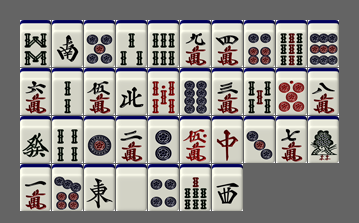0m: (180, 116, 211, 163)
0p: (276, 68, 307, 115)
0s: (148, 68, 179, 115)
1m: (20, 164, 51, 211)
1p: (84, 116, 115, 163)
1s: (308, 116, 339, 163)
1z: (84, 164, 115, 211)
2m: (116, 116, 147, 163)
2p: (148, 116, 179, 163)
2s: (52, 68, 83, 115)
2z: (52, 20, 83, 67)
3m: (212, 68, 243, 115)
3p: (244, 116, 275, 163)
3s: (116, 20, 147, 67)
3z: (212, 164, 243, 211)
4m: (212, 20, 243, 67)
4p: (148, 164, 179, 211)
4s: (52, 116, 83, 163)
4z: (116, 68, 147, 115)
5m: (84, 68, 115, 115)
5p: (84, 20, 115, 67)
5s: (244, 68, 275, 115)
5z: (116, 164, 147, 211)
6m: (20, 68, 51, 115)
6p: (244, 20, 275, 67)
6s: (148, 20, 179, 67)
6z: (20, 116, 51, 163)
7m: (276, 116, 307, 163)
7p: (52, 164, 83, 211)
7s: (180, 164, 211, 211)
7z: (212, 116, 243, 163)
8m: (308, 68, 339, 115)
8p: (180, 68, 211, 115)
8s: (20, 20, 51, 67)
9m: (180, 20, 211, 67)
9p: (308, 20, 339, 67)
9s: (276, 20, 307, 67)
